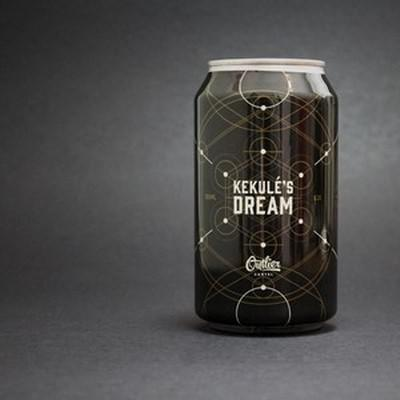beer: (191, 56, 343, 333)
